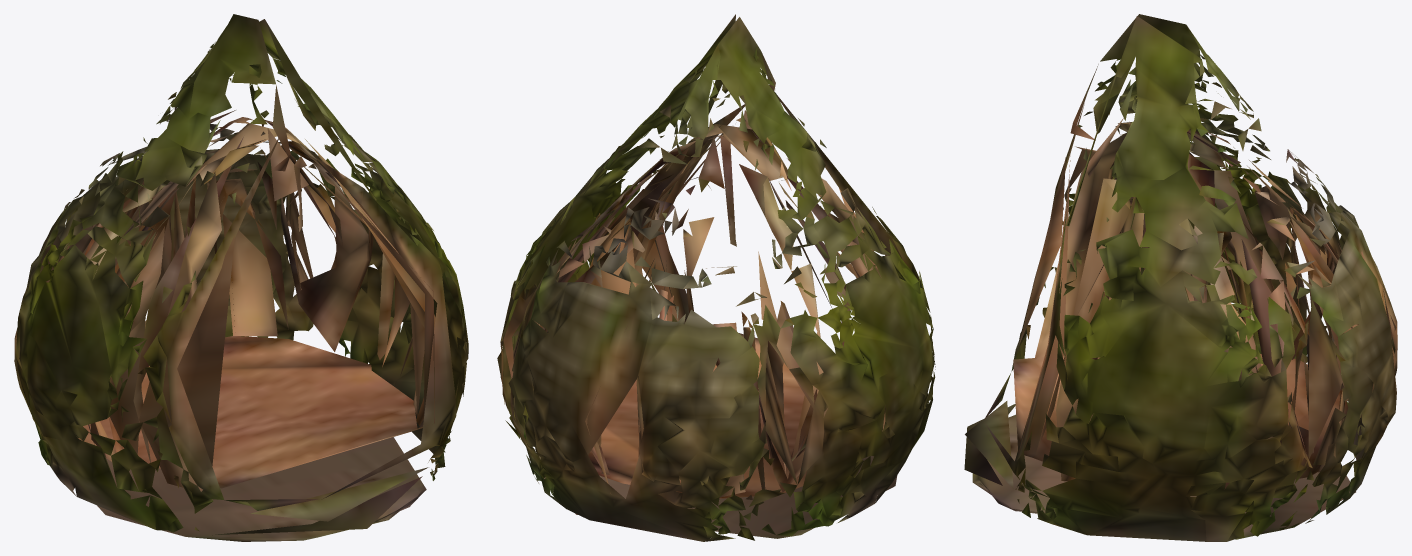
Rendered from Mosswood_Teardrop_Hou_town.glb.
3 renders of one model, left to right at view 1: azimuth 30°, elevation 25°; view 2: azimuth 150°, elevation 25°; view 3: azimuth 270°, elevation 25°, orthographic. The views are drawn at different scales.
Parts seen in each view (by area): view 1: Mosswood_Teardrop_Hou; view 2: Mosswood_Teardrop_Hou; view 3: Mosswood_Teardrop_Hou.
Part boxes in pixels (x1=…): Mosswood_Teardrop_Hou: x1=14, y1=14, x2=468, y2=541; Mosswood_Teardrop_Hou: x1=497, y1=14, x2=935, y2=541; Mosswood_Teardrop_Hou: x1=964, y1=14, x2=1397, y2=541.
Bounding box in the file's own units: 1.7 × 1.9 × 1.65.
1 material, 1 textured.
